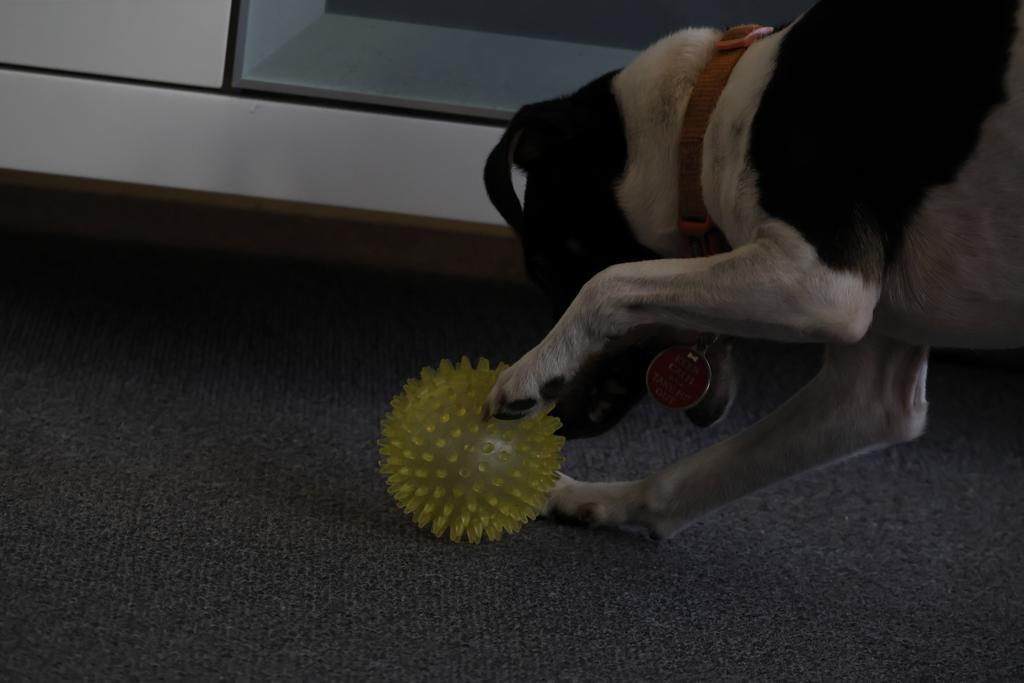Dog: (469, 0, 1024, 552)
